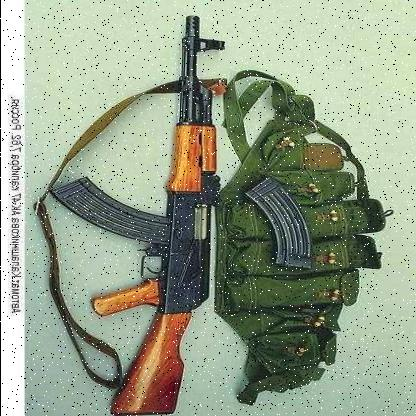rifle: (44, 8, 227, 415)
